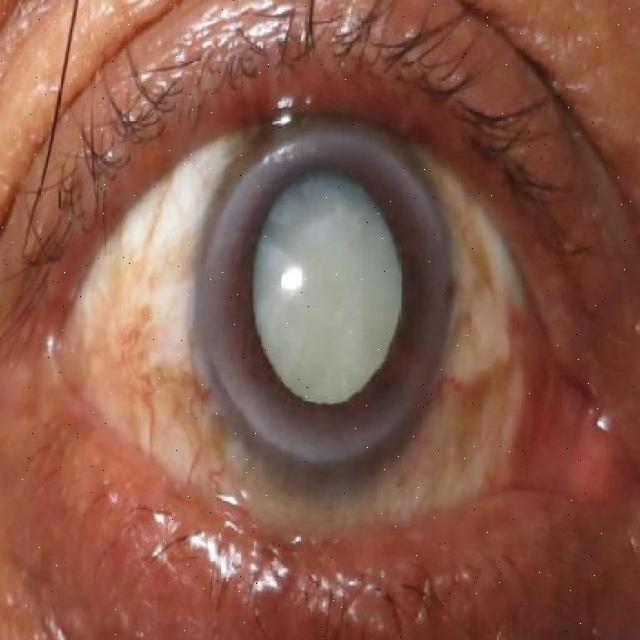Cataract: (194, 127, 449, 464)
